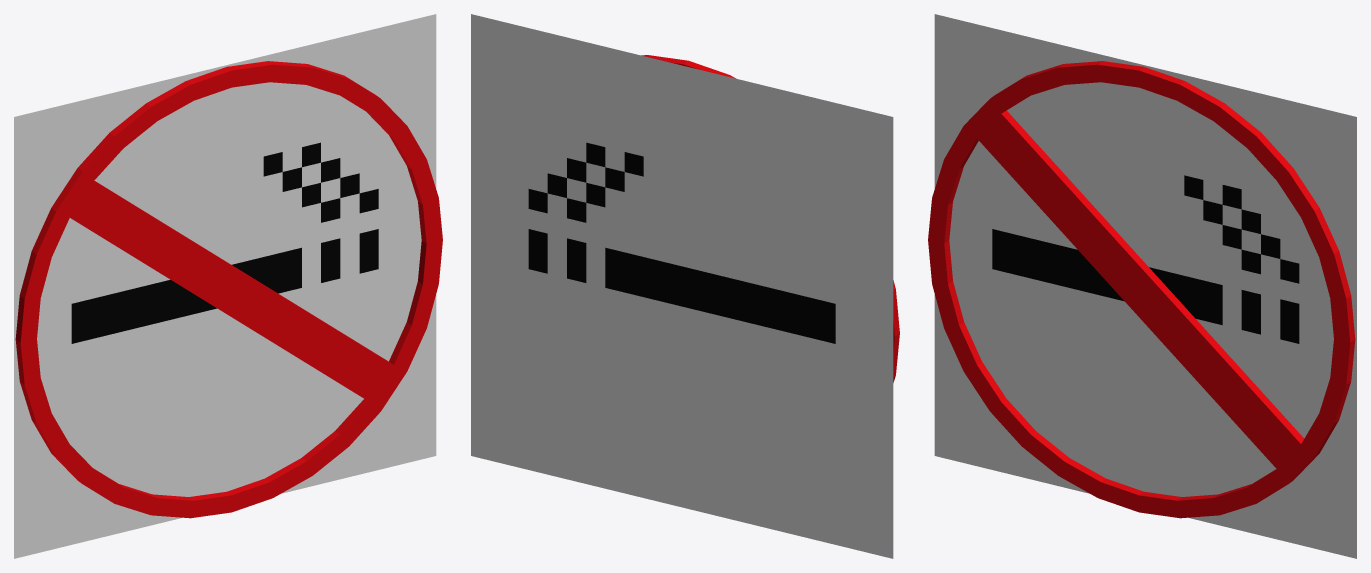
Rendered from ProibidoFumar.fbx.
3 views of the same model, side by side, from view 1: azimuth 30°, elevation 25°; view 2: azimuth 150°, elevation 25°; view 3: azimuth 330°, elevation 25° (orthographic).
Visible parts, largest first — view 1: Plane; view 2: Plane; view 3: Plane.
Part boxes in pixels (left/top/right/bottom): Plane: left=14, top=14, right=442, bottom=558; Plane: left=471, top=14, right=899, bottom=558; Plane: left=928, top=14, right=1356, bottom=558.
Bounding box in the file's own units: 2 × 0.0548 × 2.
